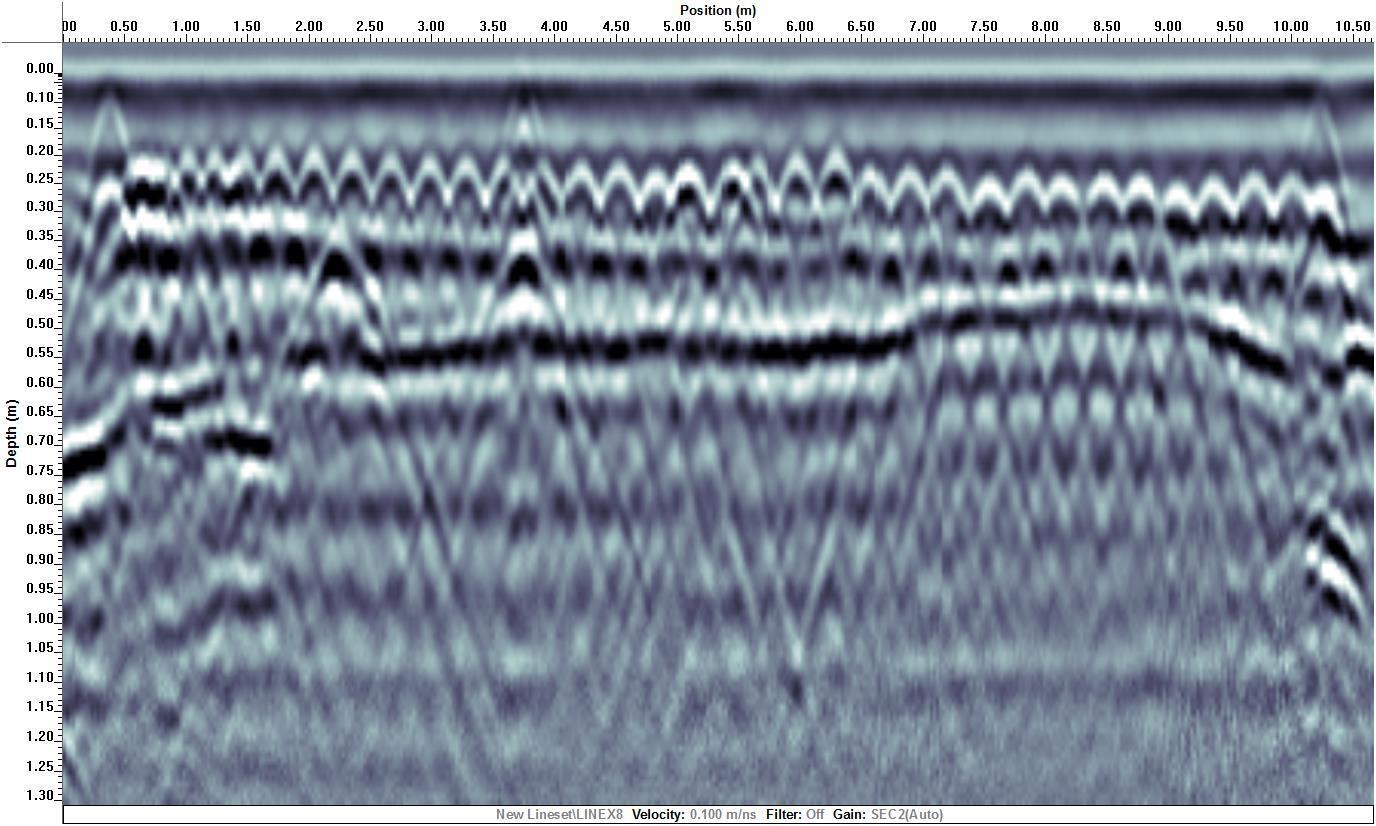hyperbola: (1235, 164, 1276, 258), (1198, 160, 1239, 254), (1161, 173, 1202, 267), (1123, 165, 1164, 259), (1087, 161, 1128, 255), (1041, 158, 1082, 252), (1008, 165, 1049, 259), (968, 156, 1009, 250), (924, 149, 965, 243), (889, 151, 930, 245), (852, 154, 893, 248), (813, 139, 854, 233), (774, 145, 815, 239), (669, 150, 710, 244), (598, 151, 639, 245), (562, 151, 603, 245)
